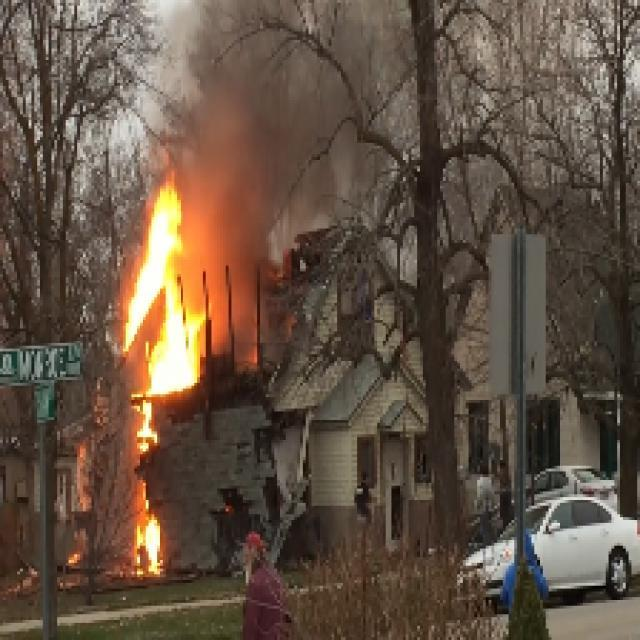Fire: (130, 178, 206, 412)
Smoke: (220, 44, 286, 186)
